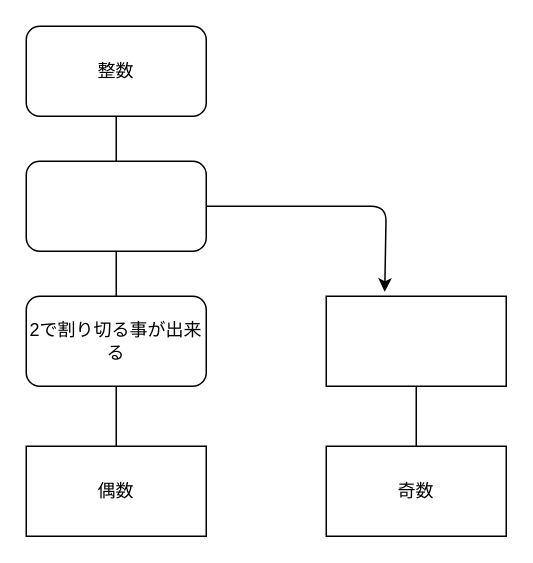
Image size: 533x563. Some labels were removed from this diagram. Here are the shapes that lost their labels. From the top down, the box of each, then its label:
(25, 160, 206, 251): 偶数か奇数か
(325, 295, 506, 386): 2で割り切る事が出来ない
